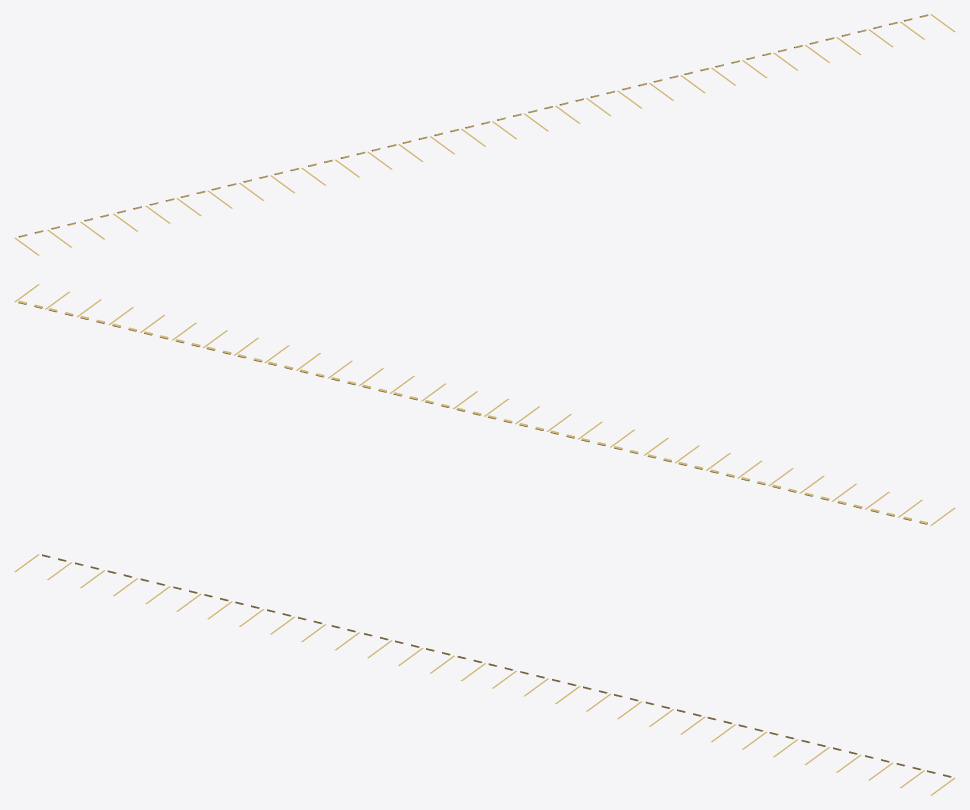
The model's file is parkirlast.fbx.
3 renders of one model, top to bottom at view 1: azimuth 30°, elevation 25°; view 2: azimuth 150°, elevation 25°; view 3: azimuth 330°, elevation 25°, orthographic.
Visible parts, largest first — view 1: Cube.310; view 2: Cube.310; view 3: Cube.310.
Part boxes in pixels (x1,y1,x2,y2): Cube.310: [14, 14, 955, 255]; Cube.310: [14, 284, 955, 525]; Cube.310: [14, 554, 955, 795].
Bounding box in the file's own units: 258 × 0.4772 × 11.82.
